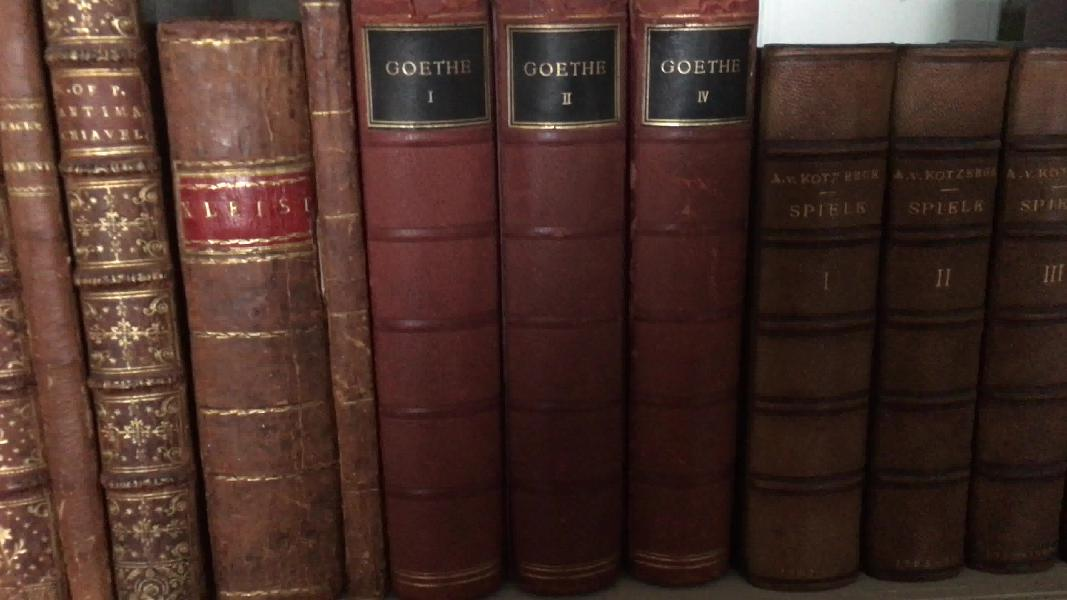Aa6-10: (299, 6, 400, 600)
Aa6-11_13: (347, 7, 753, 599)
Aa6-14_17: (758, 46, 1067, 594)
Aa6-7: (3, 8, 115, 597)
Aa6-8: (37, 1, 222, 593)
Aa6-9: (141, 15, 350, 600)
